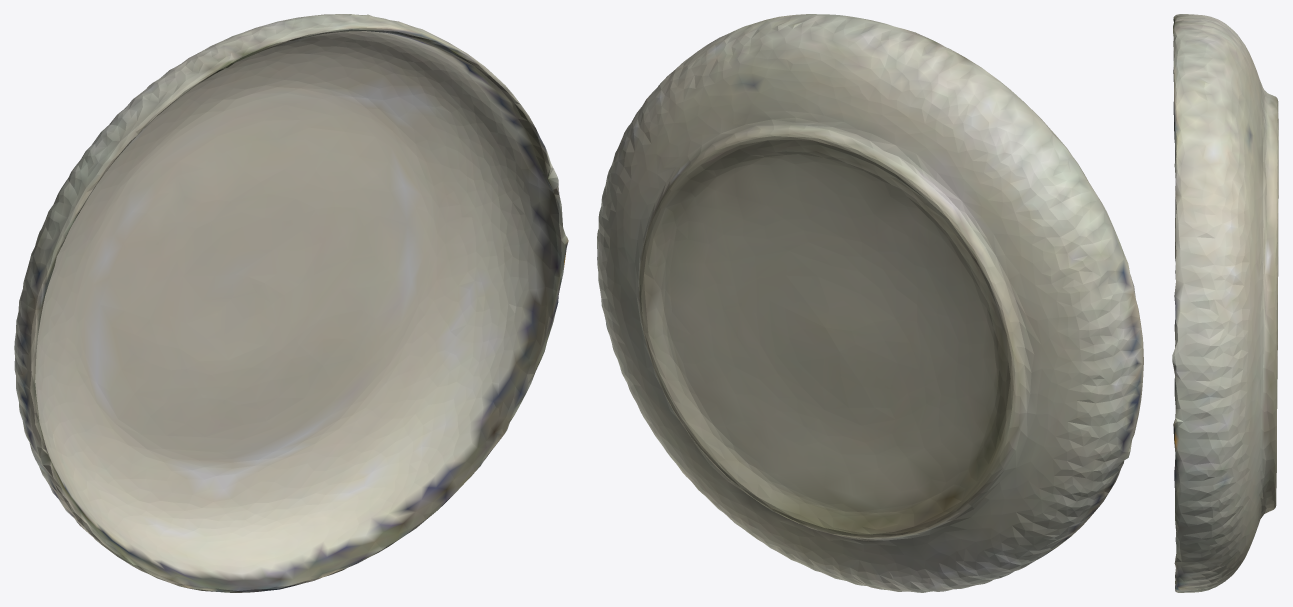
Rendered from scan.obj.
3 views of the same model, side by side, from view 1: azimuth 30°, elevation 25°; view 2: azimuth 150°, elevation 25°; view 3: azimuth 270°, elevation 25° (orthographic). The views are drawn at different scales.
Parts seen in each view (by area): view 1: scan.ply; view 2: scan.ply; view 3: scan.ply.
Boxes of the visible parts, box(x1,y1,x2,y2) form: scan.ply: box(14, 14, 568, 592); scan.ply: box(597, 14, 1143, 592); scan.ply: box(1172, 14, 1278, 592).
Size of the model in its own units: 0.2089 by 0.2061 by 0.0379.
